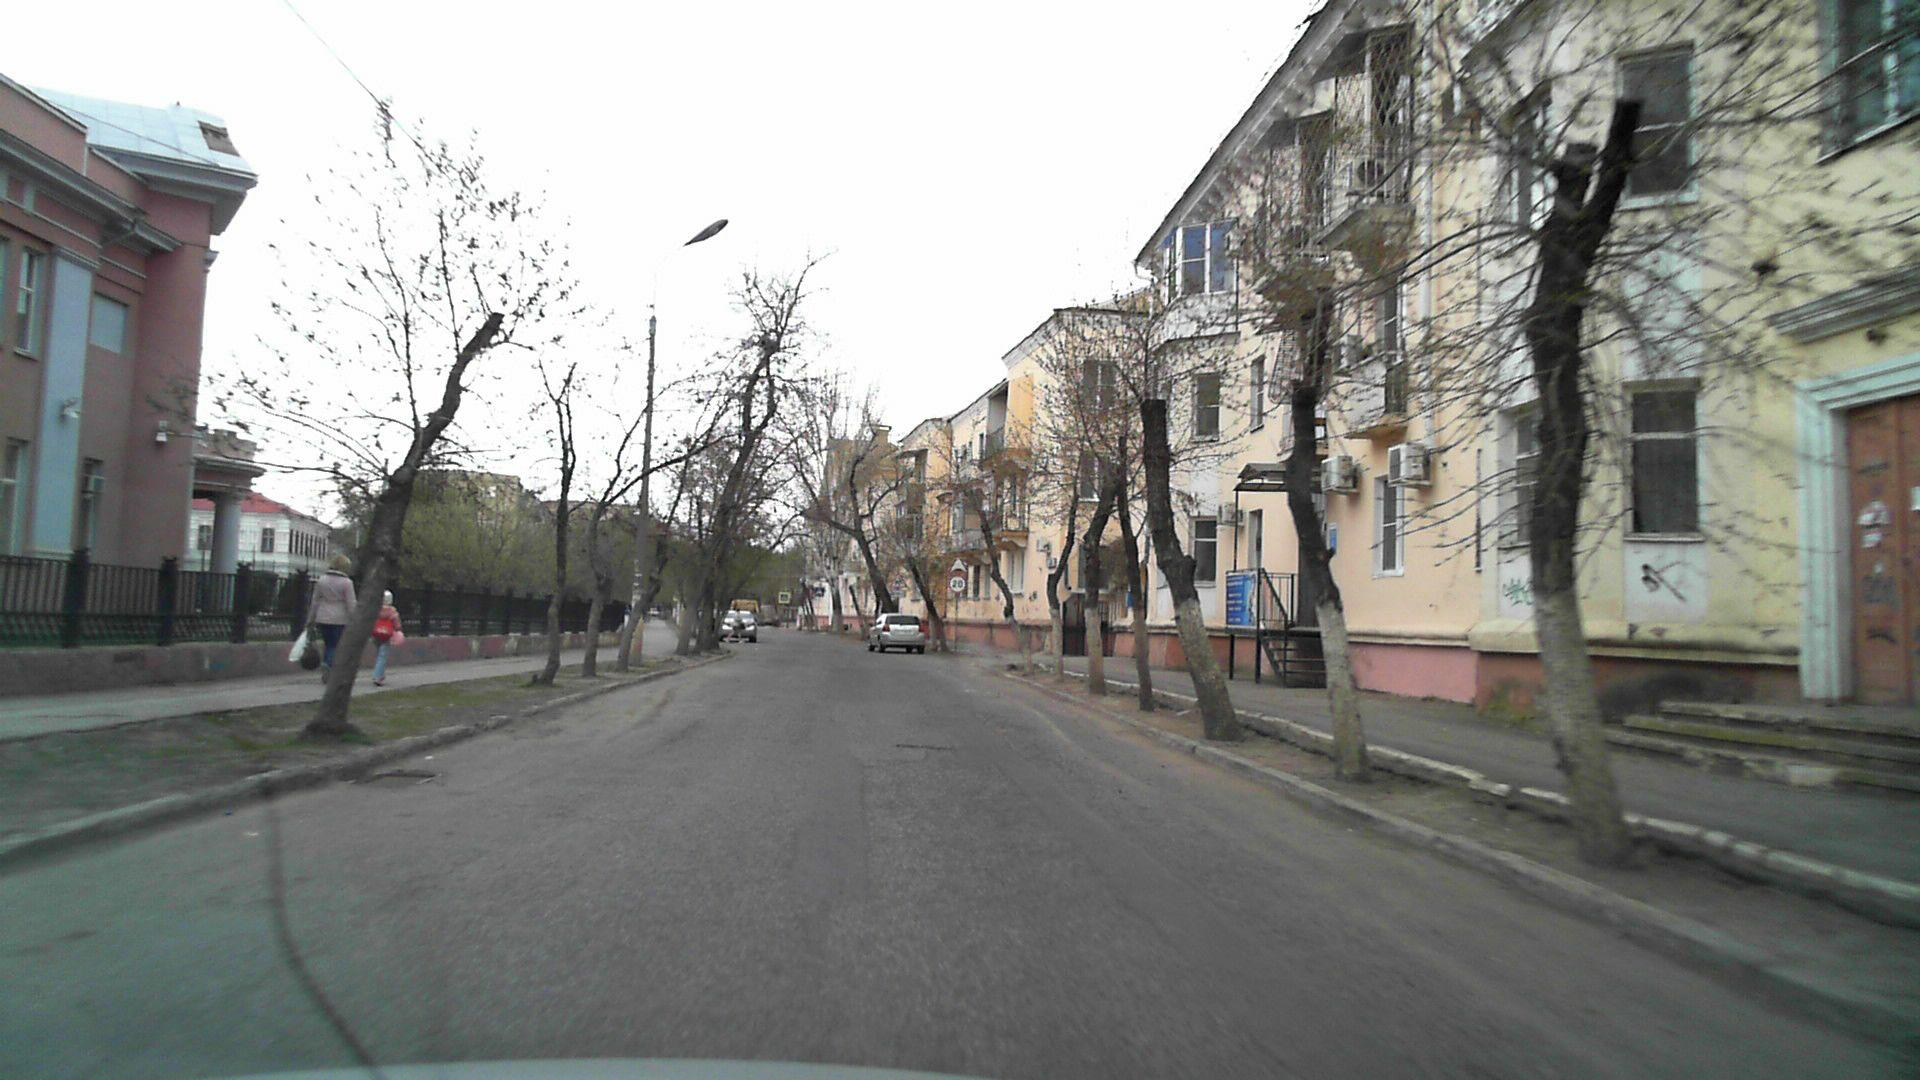1_17: (949, 555, 968, 574)
1_23: (890, 572, 907, 588)
3_24: (949, 575, 967, 592)
5_19_1: (781, 593, 789, 603)
5_20: (815, 585, 825, 597)
8_2_1: (890, 589, 907, 597)
